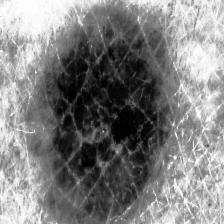Benign Marking or Mole: (27, 11, 175, 224)
